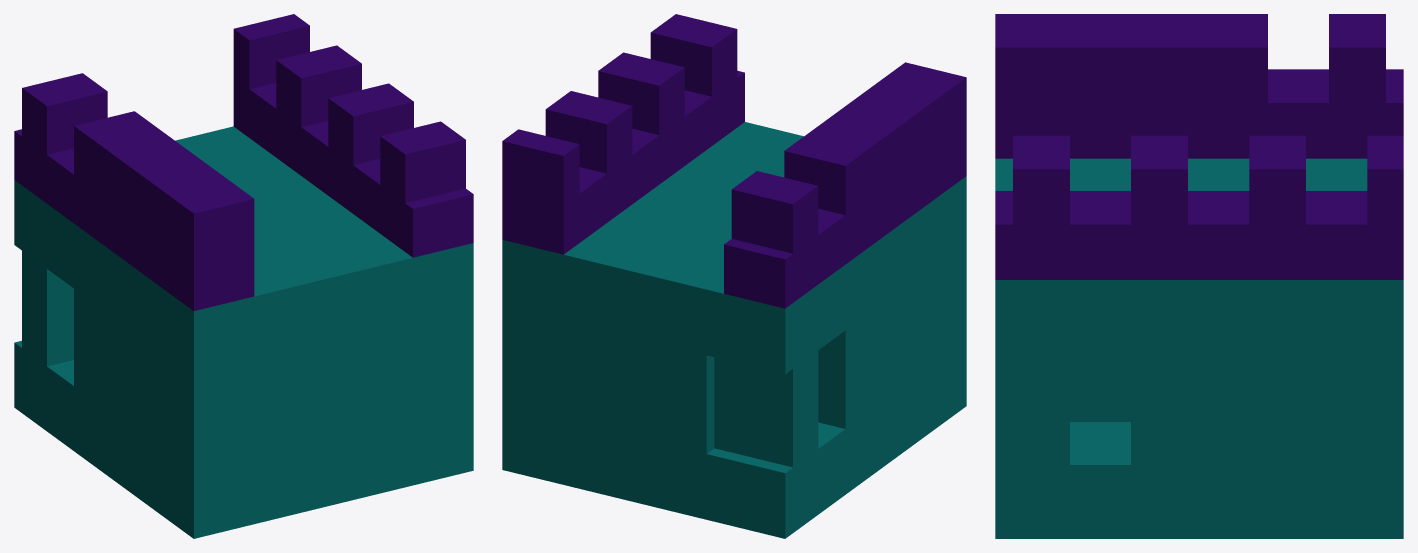
File: Roof_02_H_R.fbx
3 renders of one model, left to right at view 1: azimuth 30°, elevation 25°; view 2: azimuth 150°, elevation 25°; view 3: azimuth 270°, elevation 25°, orthographic. The views are drawn at different scales.
Visible parts, largest first — view 1: 3, 1, 4, 2; view 2: 4, 2, 3, 1; view 3: 1, 2, 3, 4.
Boxes of the visible parts, <box> form: 3: <box>104,133,333,538</box>; 1: <box>254,83,473,504</box>; 4: <box>14,73,164,472</box>; 2: <box>175,14,361,208</box>; 4: <box>643,129,875,538</box>; 2: <box>502,91,731,504</box>; 3: <box>778,62,966,472</box>; 1: <box>598,14,803,206</box>; 1: <box>995,135,1199,538</box>; 2: <box>1199,135,1403,538</box>; 3: <box>995,14,1199,190</box>; 4: <box>1199,14,1403,190</box>.
Size of the model in its own units: 180 by 200 by 200.
